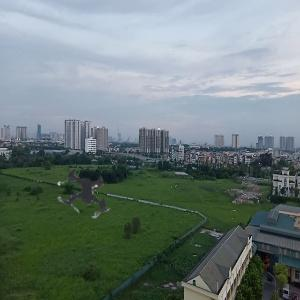drone: (10, 121, 161, 272)
